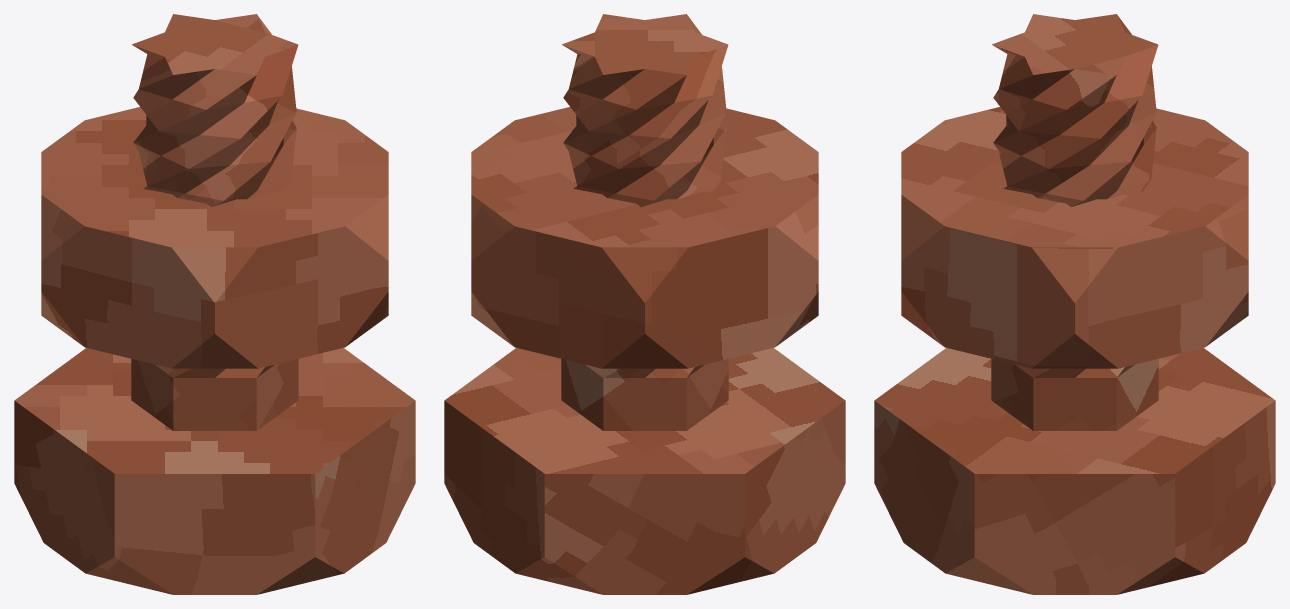
Rendered from bolt_and_nut.fbx.
3 views of the same model, side by side, from view 1: azimuth 30°, elevation 25°; view 2: azimuth 150°, elevation 25°; view 3: azimuth 270°, elevation 25° (orthographic).
Parts seen in each view (by area): view 1: болт с гайкой; view 2: болт с гайкой; view 3: болт с гайкой.
Part boxes in pixels (x1,y1,x2,y2): болт с гайкой: [14, 14, 415, 594]; болт с гайкой: [444, 14, 845, 594]; болт с гайкой: [874, 14, 1275, 594].
Bounding box in the file's own units: 4.8 × 6.3 × 4.8.
